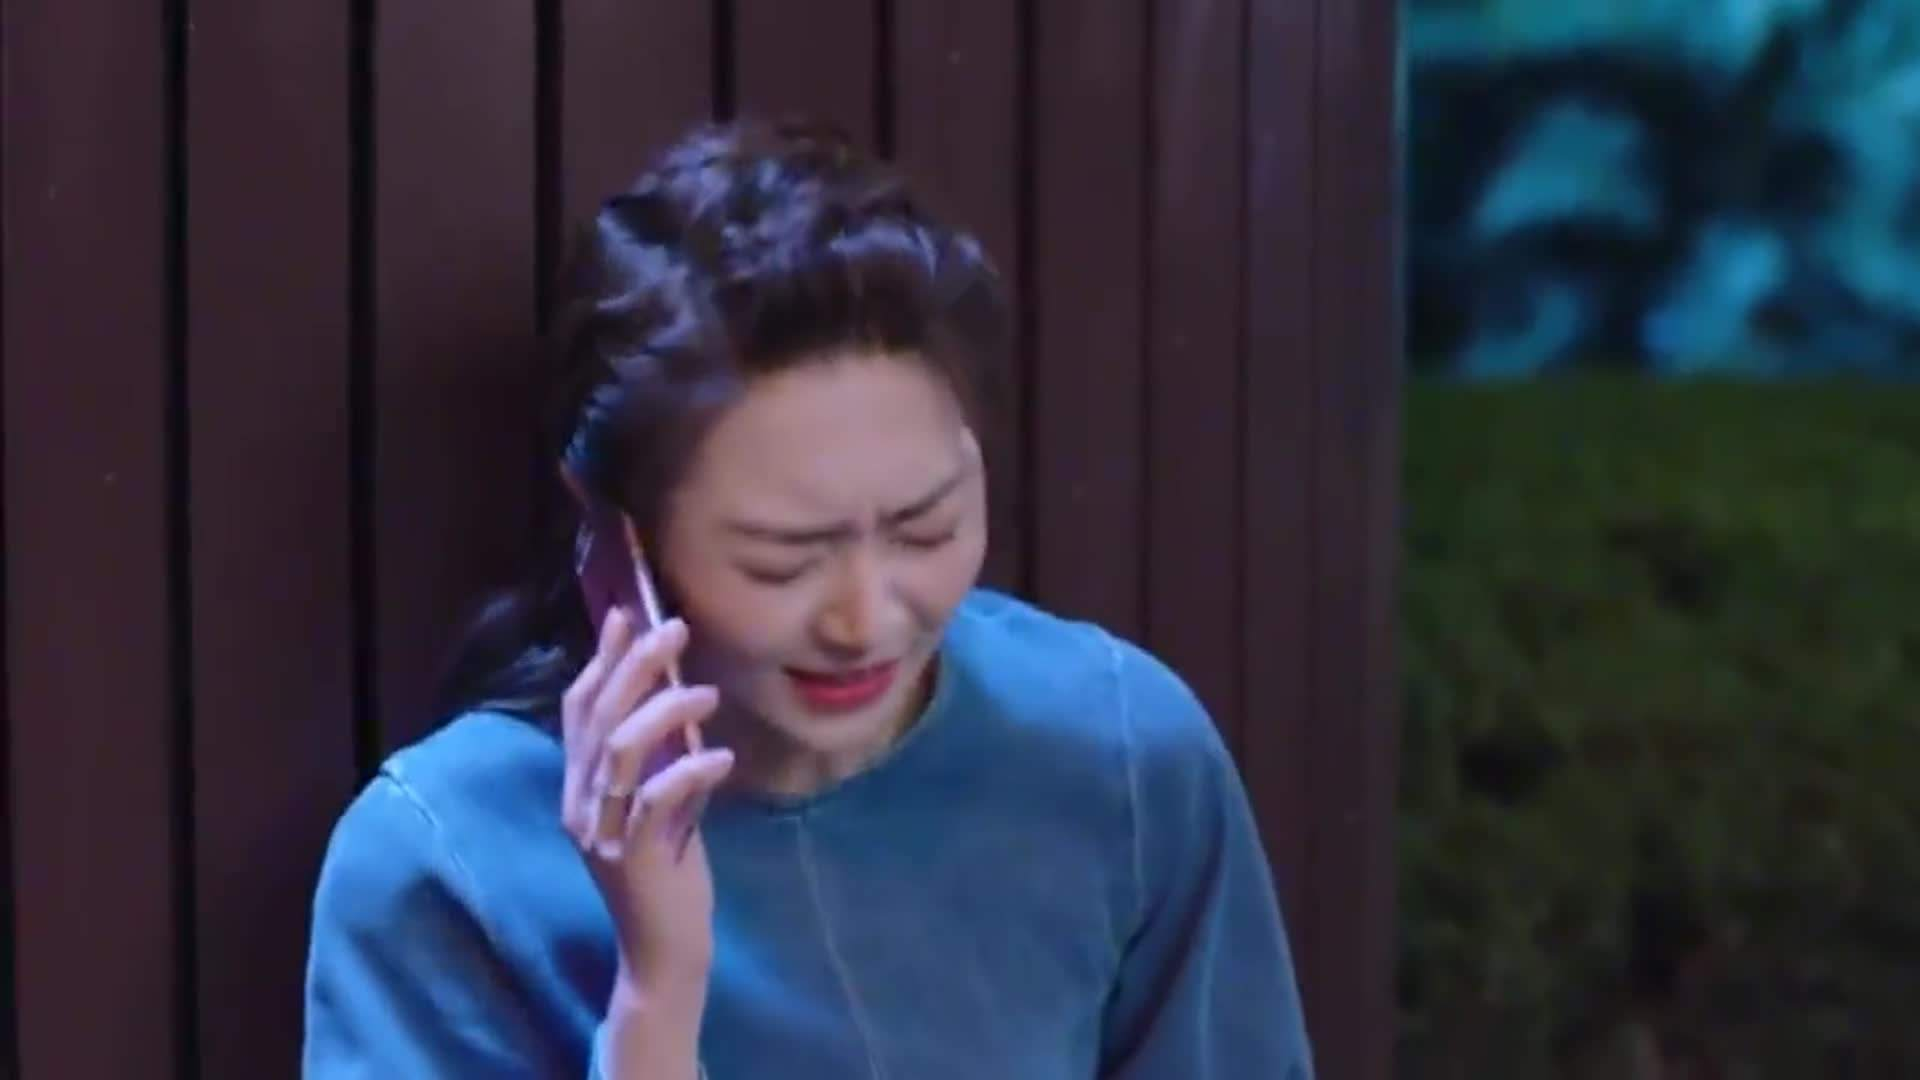calling: (553, 498, 736, 964)
